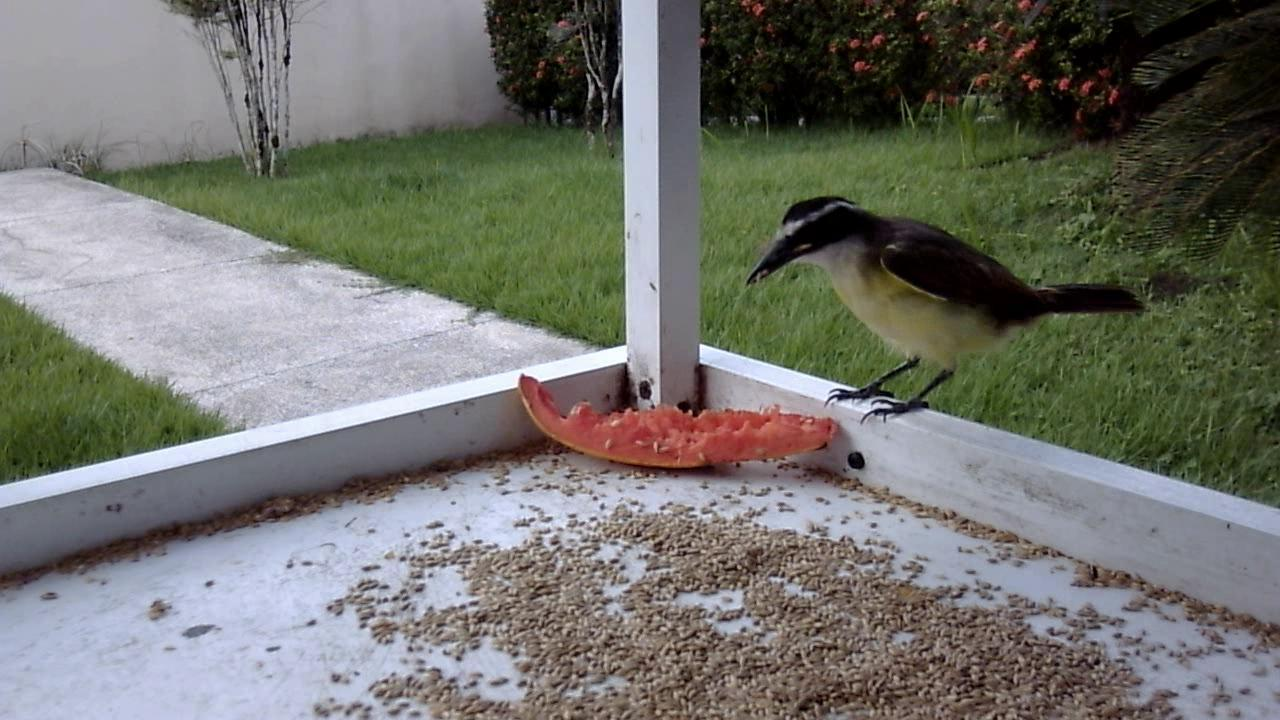bem_te_vi: (741, 192, 1144, 437)
